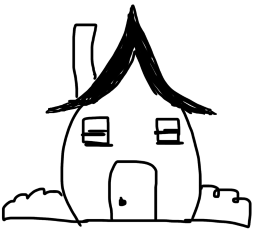big_house: (1, 1, 260, 234)
chimney: (67, 19, 105, 103)
closed_window: (78, 110, 118, 150), (150, 113, 185, 151)
door: (102, 156, 164, 225)
roof: (31, 2, 228, 118)
wall: (59, 99, 204, 229)
